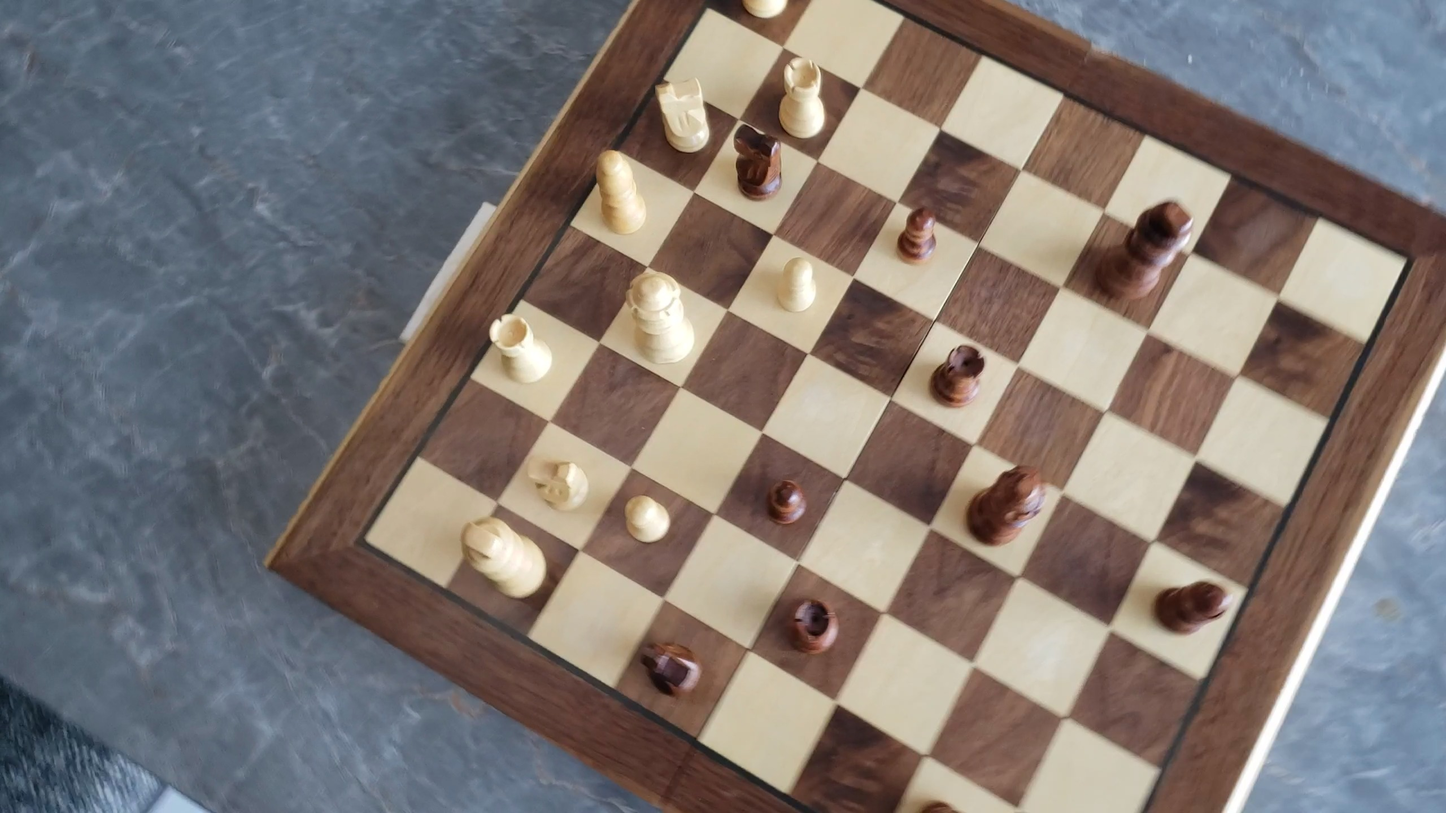black-bishop: (1151, 577, 1234, 637)
black-knight: (629, 628, 716, 700), (731, 122, 786, 202)
black-pawn: (895, 200, 941, 266), (764, 474, 809, 528)
black-queen: (965, 457, 1055, 558)
black-rook: (776, 580, 840, 655), (929, 342, 988, 408)
white-bishop: (590, 145, 653, 238)
white-king: (1097, 197, 1197, 306), (456, 515, 552, 602)
white-knight: (518, 449, 602, 520), (651, 72, 715, 156)
white-pawn: (770, 252, 824, 317), (621, 491, 674, 547)
white-queen: (610, 264, 713, 383)
white-rook: (485, 309, 557, 388), (775, 53, 830, 142)
